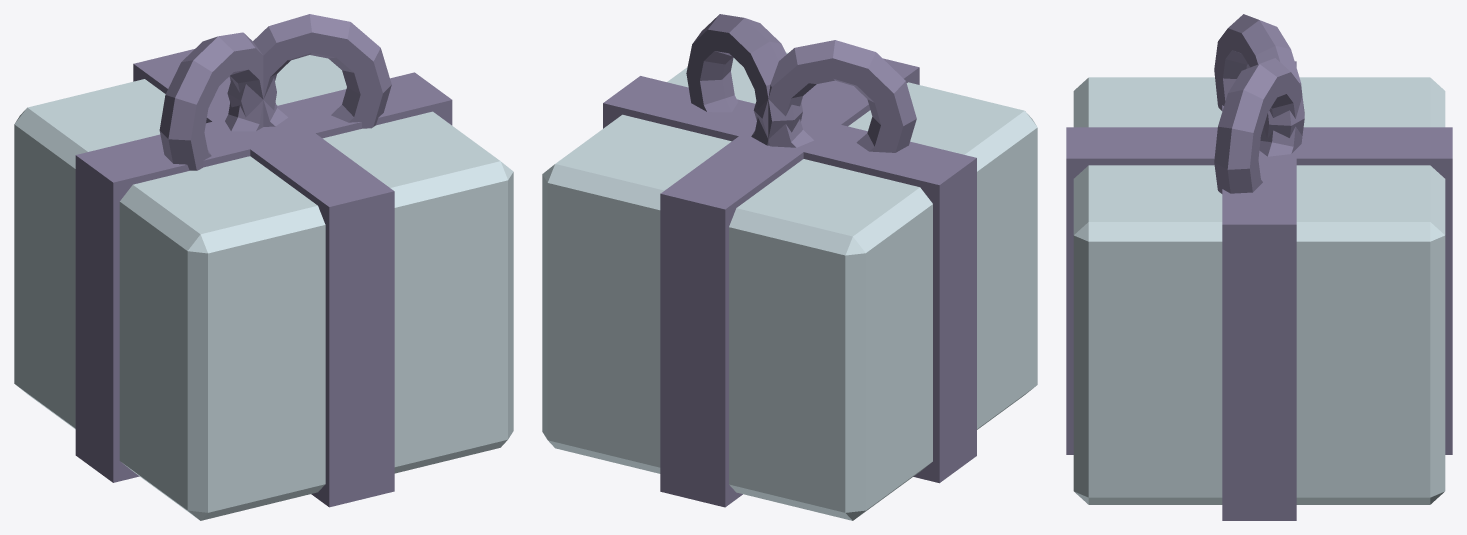
Rendered from sb_present_ice.glb.
3 renders of one model, left to right at view 1: azimuth 30°, elevation 25°; view 2: azimuth 150°, elevation 25°; view 3: azimuth 270°, elevation 25°, orthographic.
Visible parts, largest first — view 1: present_ice; view 2: present_ice; view 3: present_ice.
Boxes of the visible parts, <box> form: present_ice: <box>14,14,513,520</box>; present_ice: <box>542,14,1037,520</box>; present_ice: <box>1066,14,1452,520</box>.
Size of the model in its own units: 0.52 by 0.59 by 0.52.
